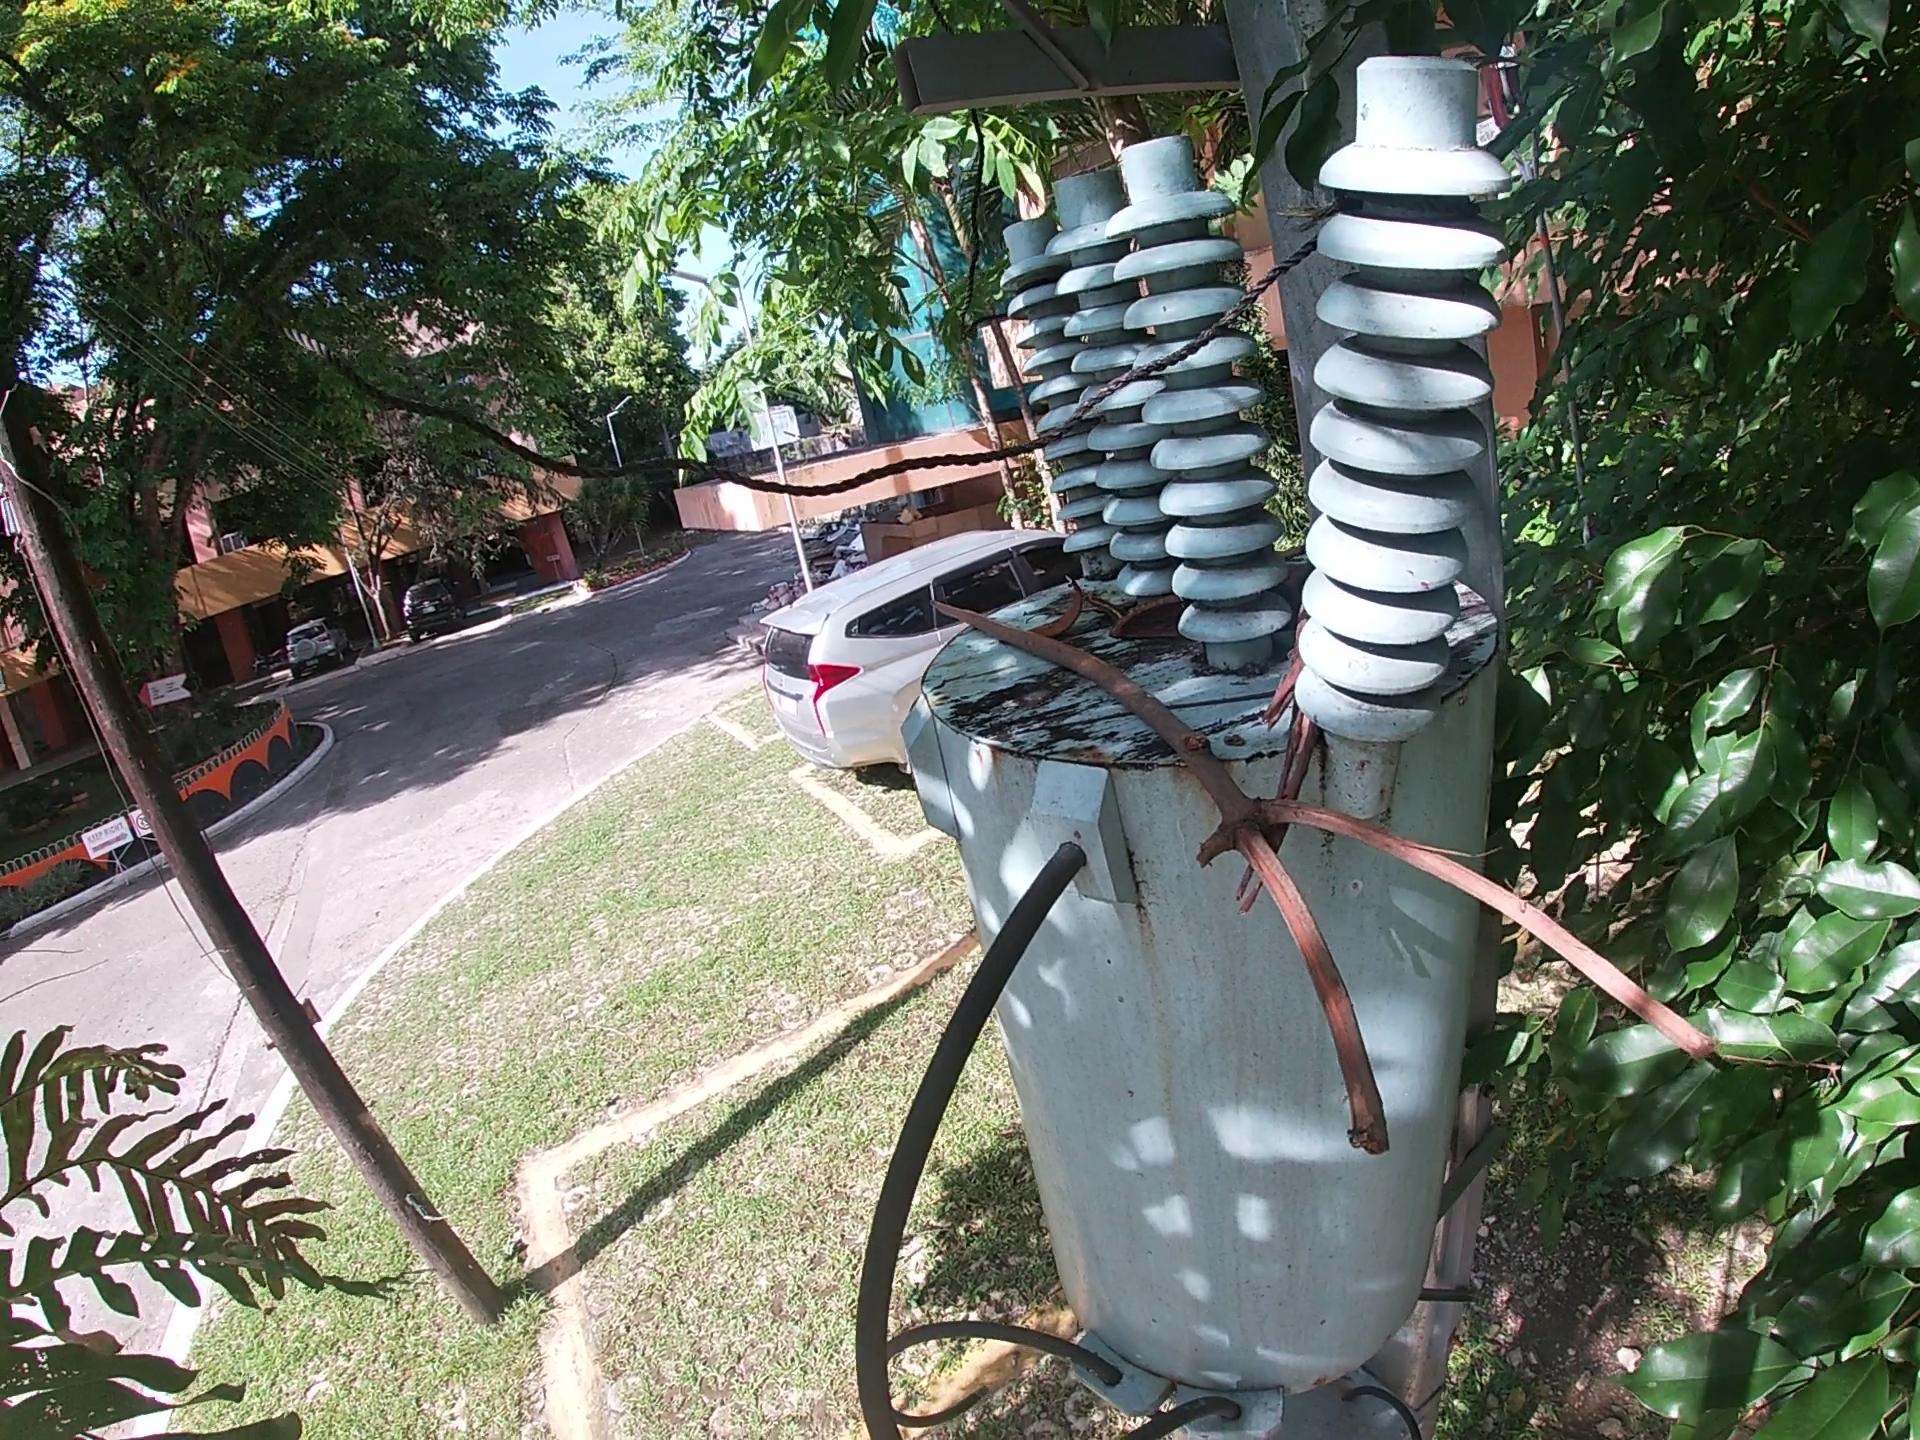mahogany fruit: (1110, 597, 1185, 661), (1027, 576, 1087, 634)
tree branch: (934, 597, 1755, 1175), (1234, 613, 1306, 917), (980, 679, 1288, 750), (1082, 582, 1114, 614), (1271, 572, 1311, 591), (1274, 546, 1305, 567)
